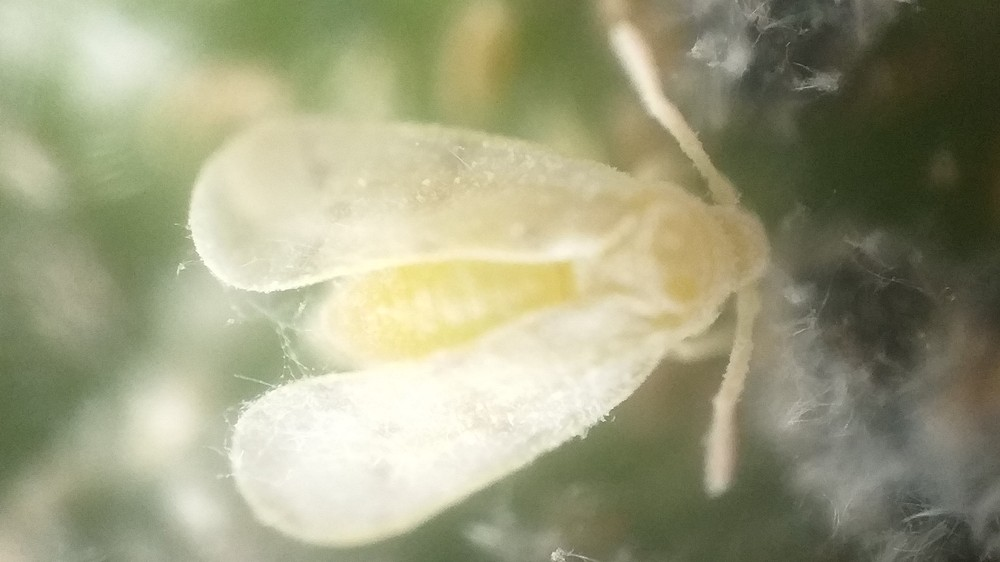Mosca Blanca: (171, 22, 785, 557)
